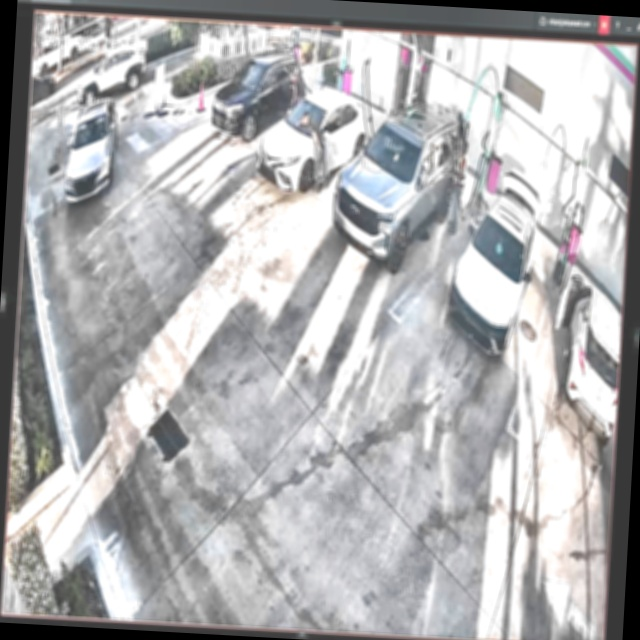Car: (331, 101, 469, 283), (448, 169, 543, 357), (257, 83, 373, 196)
